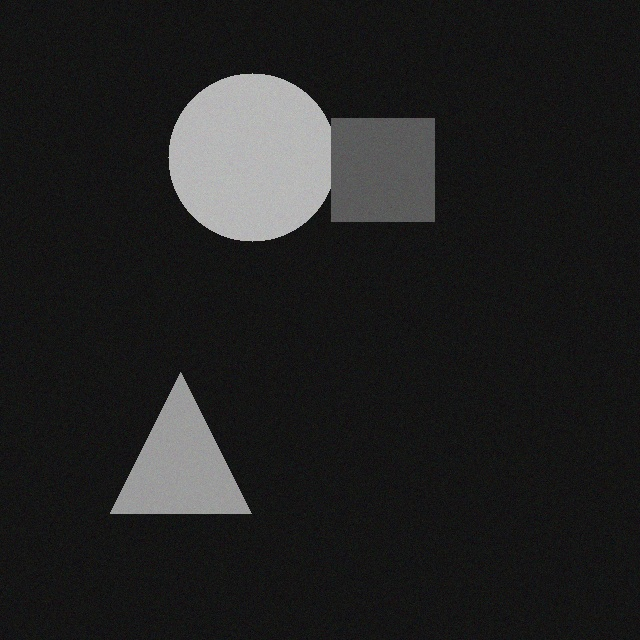circle: (181, 65, 349, 233)
square: (344, 110, 447, 213)
triangle: (123, 364, 264, 505)
